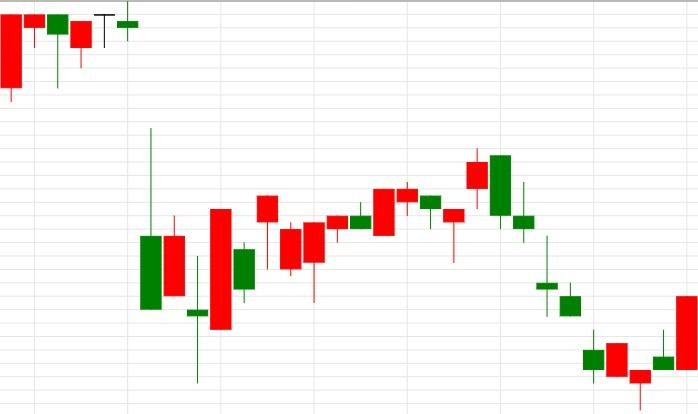bullish_engulfing_rise: (466, 148, 698, 411)
hammer_rise: (396, 181, 465, 263)
